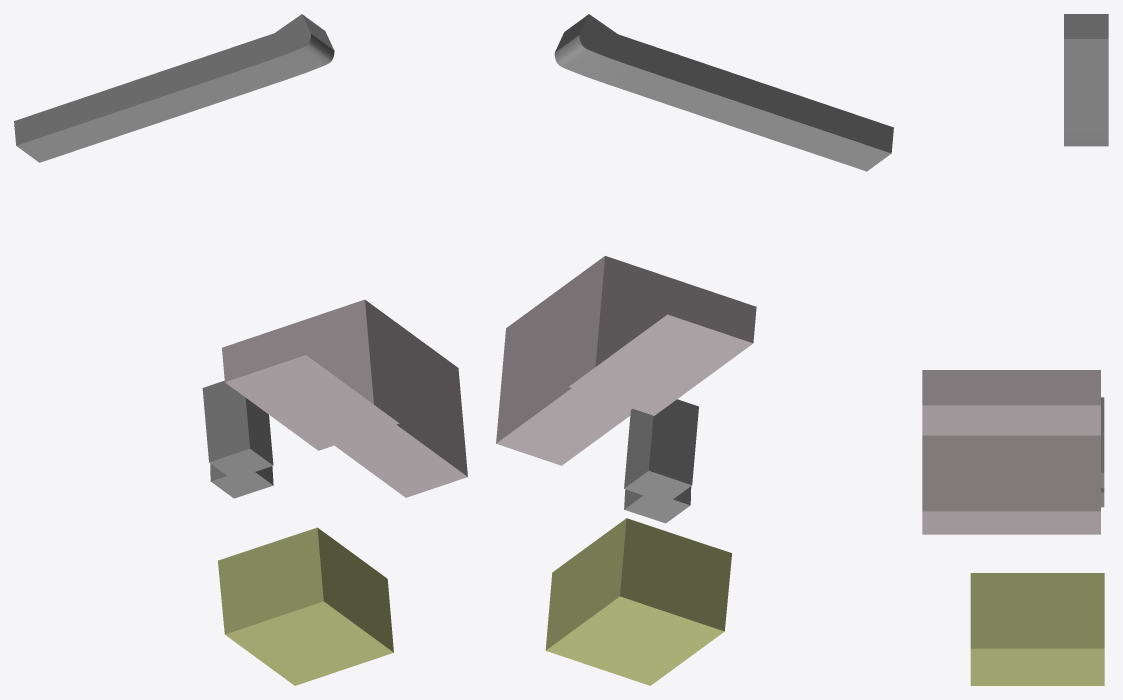
The picture shows the model from 3 angles, left to right: view 1: azimuth 30°, elevation 25°; view 2: azimuth 150°, elevation 25°; view 3: azimuth 270°, elevation 25°; orthographic projection. The views are drawn at different scales.
Visible parts, largest first — view 1: 0_2_3_3_3_1_0_3_2; view 2: 0_2_3_3_3_1_0_3_2; view 3: 0_2_3_3_3_1_0_3_2.
Boxes of the visible parts, box(x1,y1,x2,y2) form: 0_2_3_3_3_1_0_3_2: box(14, 14, 467, 685); 0_2_3_3_3_1_0_3_2: box(496, 14, 893, 685); 0_2_3_3_3_1_0_3_2: box(922, 14, 1108, 685).
Bounding box in the file's own units: 26.38 × 42.42 × 12.51.
